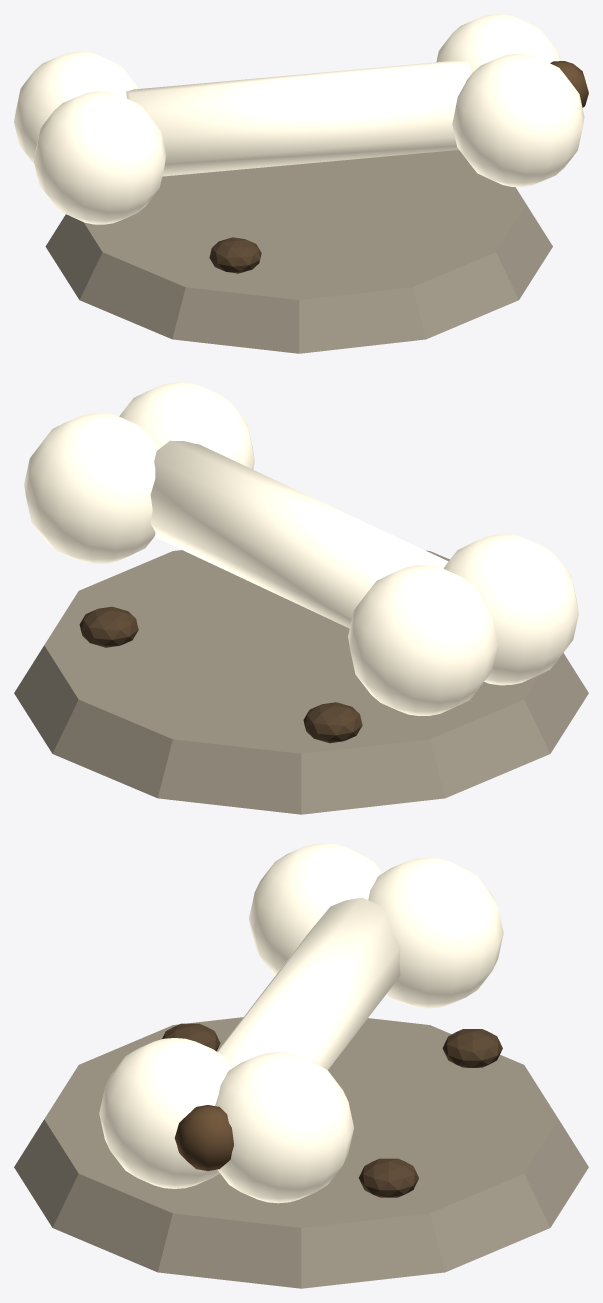
The model's file is hueso.glb.
The picture shows the model from 3 angles, top to bottom: view 1: azimuth 30°, elevation 25°; view 2: azimuth 150°, elevation 25°; view 3: azimuth 270°, elevation 25°; orthographic projection. The views are drawn at different scales.
Parts seen in each view (by area): view 1: hueso_losa, hueso_caña, hueso_nudo_-1-1, hueso_nudo_1-1, hueso_nudo_-11, hueso_nudo_11, hueso_terron_0, hueso_mordisco_1; view 2: hueso_losa, hueso_caña, hueso_nudo_-11, hueso_nudo_11, hueso_nudo_-1-1, hueso_nudo_1-1, hueso_terron_2, hueso_terron_1; view 3: hueso_losa, hueso_caña, hueso_nudo_11, hueso_nudo_-11, hueso_nudo_1-1, hueso_nudo_-1-1, hueso_mordisco_1, hueso_terron_1, hueso_terron_2, hueso_terron_0.
Boxes of the visible parts, <box> form: hueso_losa: <box>45,150,552,353</box>; hueso_caña: <box>126,60,471,176</box>; hueso_nudo_-1-1: <box>34,91,166,224</box>; hueso_nudo_1-1: <box>452,54,584,187</box>; hueso_nudo_-11: <box>14,51,138,164</box>; hueso_nudo_11: <box>436,14,560,72</box>; hueso_terron_0: <box>209,237,261,273</box>; hueso_mordisco_1: <box>550,61,588,107</box>; hueso_losa: <box>14,550,588,814</box>; hueso_caña: <box>150,440,448,628</box>; hueso_nudo_-11: <box>348,565,497,715</box>; hueso_nudo_11: <box>24,413,160,563</box>; hueso_nudo_-1-1: <box>443,534,578,685</box>; hueso_nudo_1-1: <box>119,382,254,469</box>; hueso_terron_2: <box>303,702,362,743</box>; hueso_terron_1: <box>79,606,138,647</box>; hueso_losa: <box>14,1017,588,1288</box>; hueso_caña: <box>217,897,400,1070</box>; hueso_nudo_11: <box>215,1052,353,1203</box>; hueso_nudo_-11: <box>368,857,503,1008</box>; hueso_nudo_1-1: <box>99,1038,232,1188</box>; hueso_nudo_-1-1: <box>249,843,382,975</box>; hueso_mordisco_1: <box>174,1105,233,1170</box>; hueso_terron_1: <box>359,1158,418,1197</box>; hueso_terron_2: <box>442,1029,502,1067</box>; hueso_terron_0: <box>162,1023,220,1051</box>.
Size of the model in its own units: 0.4266 by 0.155 by 0.38.
